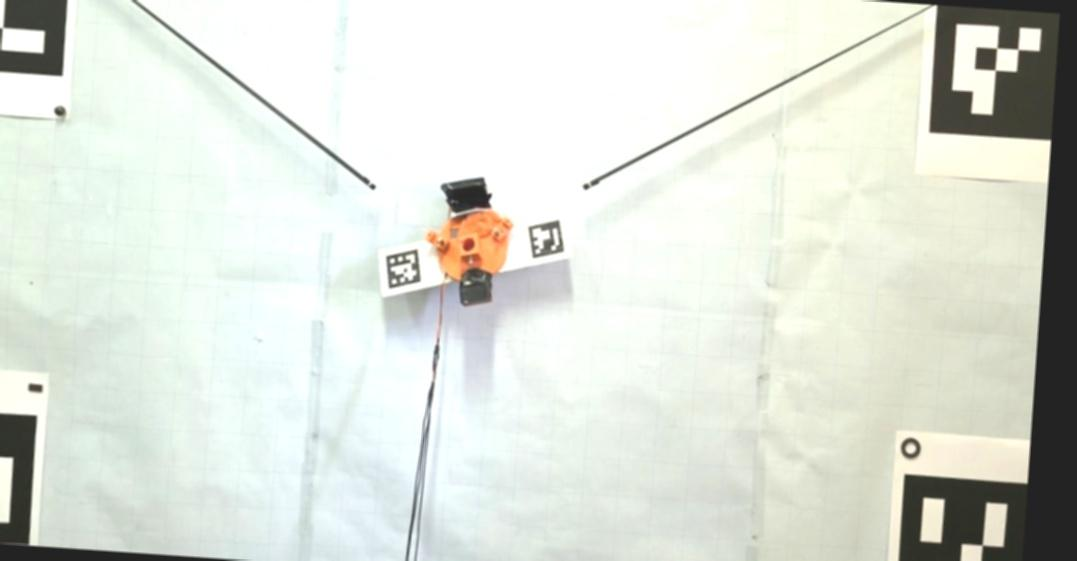robot: (427, 178, 514, 307)
